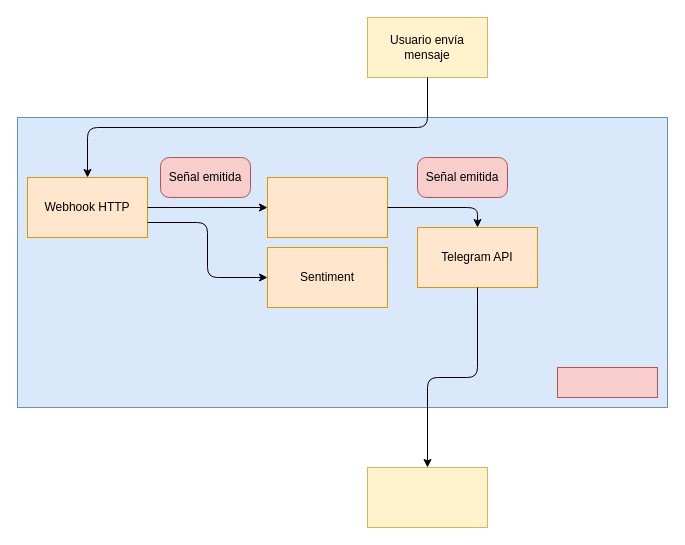
This 685x545 diagram has some shape labels left out. The centre of each missing label's shape, as x and y in pixels:
"Aplicación" belongs at pixel 607 382.
"NLP" belongs at pixel 327 207.
"Usuario recibe mensaje del bot" belongs at pixel 427 497.
